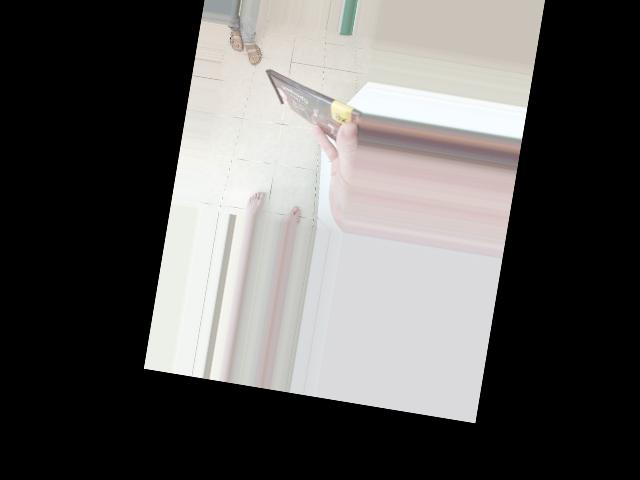chocolate: (233, 63, 323, 176)
